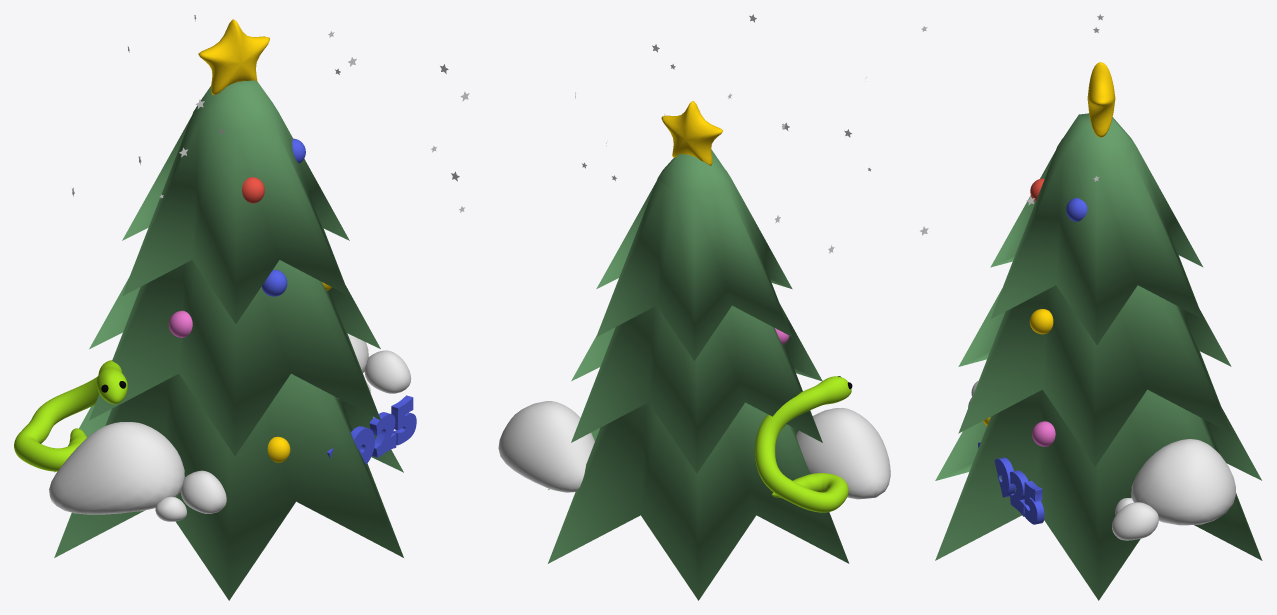
3 renders of one model, left to right at view 1: azimuth 30°, elevation 25°; view 2: azimuth 150°, elevation 25°; view 3: azimuth 270°, elevation 25°, orthographic. The views are drawn at different scales.
Visible parts, largest first — view 1: Cylinder.003, Cylinder.002, Cylinder.001, Sphere.018, Zmeya, Zvezda, Text, Sphere.001; view 2: Cylinder.003, Cylinder.002, Cylinder.001, Sphere.001, Sphere.018, Zmeya, Zvezda; view 3: Cylinder.003, Cylinder.001, Cylinder.002, Sphere.001, Text, Zvezda, Sphere.005, Sphere.006.
Boxes of the visible parts, left/top/right/bottom form: Cylinder.003: left=54, top=373, right=403, bottom=600; Cylinder.002: left=122, top=80, right=349, bottom=323; Cylinder.001: left=89, top=260, right=380, bottom=455; Sphere.018: left=49, top=422, right=226, bottom=521; Zmeya: left=14, top=360, right=127, bottom=471; Zvezda: left=198, top=19, right=269, bottom=95; Text: left=327, top=395, right=416, bottom=464; Sphere.001: left=347, top=333, right=411, bottom=393; Cylinder.003: left=548, top=402, right=849, bottom=600; Cylinder.002: left=596, top=149, right=792, bottom=360; Cylinder.001: left=571, top=304, right=822, bottom=473; Sphere.001: left=498, top=401, right=594, bottom=492; Sphere.018: left=796, top=408, right=890, bottom=499; Zmeya: left=755, top=376, right=852, bottom=512; Zvezda: left=661, top=101, right=723, bottom=165; Cylinder.003: left=935, top=389, right=1262, bottom=600; Cylinder.001: left=958, top=285, right=1231, bottom=466; Cylinder.002: left=990, top=113, right=1203, bottom=344; Sphere.001: left=1112, top=439, right=1235, bottom=540; Text: left=978, top=442, right=1044, bottom=524; Zvezda: left=1087, top=62, right=1115, bottom=137; Sphere.005: left=1029, top=309, right=1053, bottom=334; Sphere.006: left=1032, top=421, right=1055, bottom=446.
Size of the model in its own units: 1.67 by 2.11 by 1.35.
